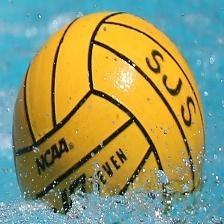Sports-Ball: (13, 14, 206, 214)
